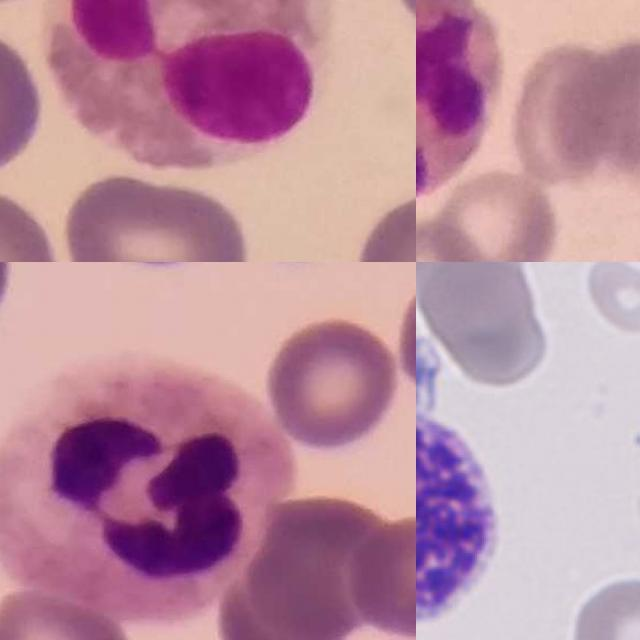Eosinophil: (52, 0, 333, 169)
Lymphocyte: (416, 331, 512, 640)
Neutrophil: (0, 356, 297, 625), (416, 0, 499, 205)
RBC: (416, 262, 555, 391), (416, 262, 539, 338), (564, 567, 640, 640), (580, 262, 640, 336)
